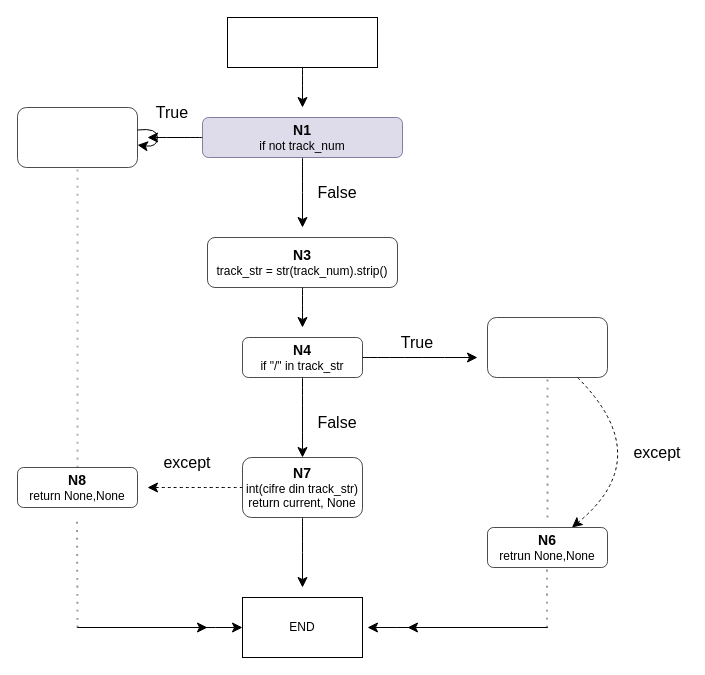
Image size: 705x675. Some labels were removed from this diagram. Here are the shapes that lost their labels. From the top down, the box of each, then its label:
(226, 16, 378, 68): START
(16, 106, 138, 168): N2 return None,None
(486, 316, 608, 378): N5 split("/") return current,total
